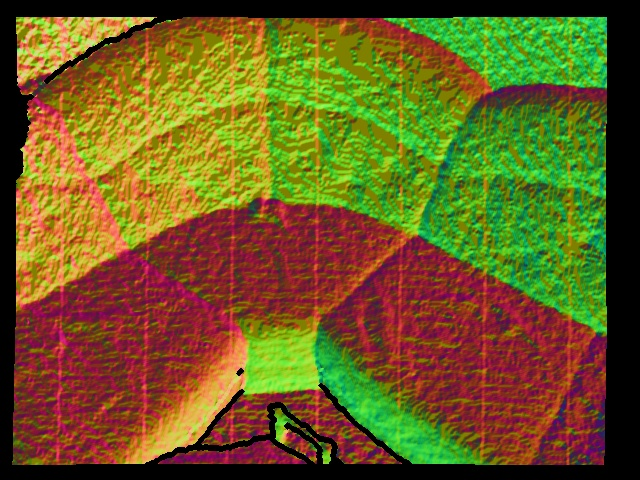station: (269, 404, 334, 468)
